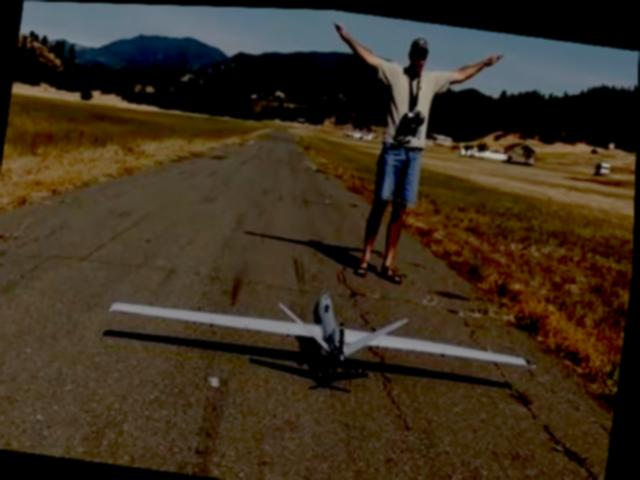uav: (91, 250, 544, 417)
